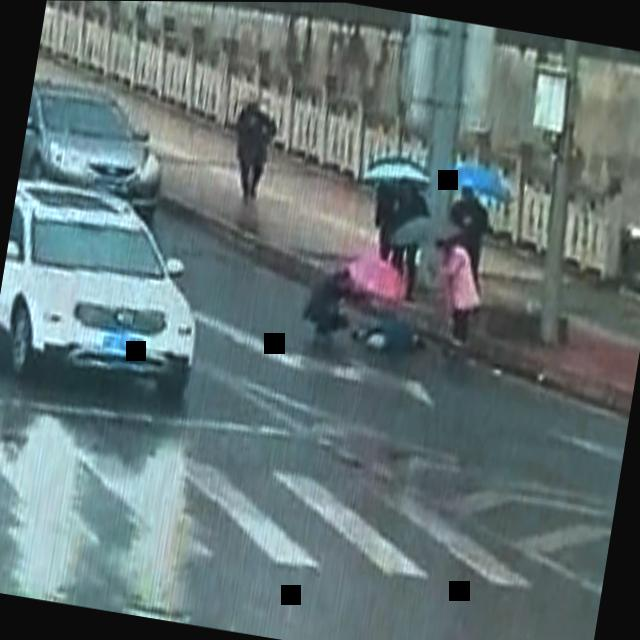Fall-Detected: (345, 298, 435, 367)
